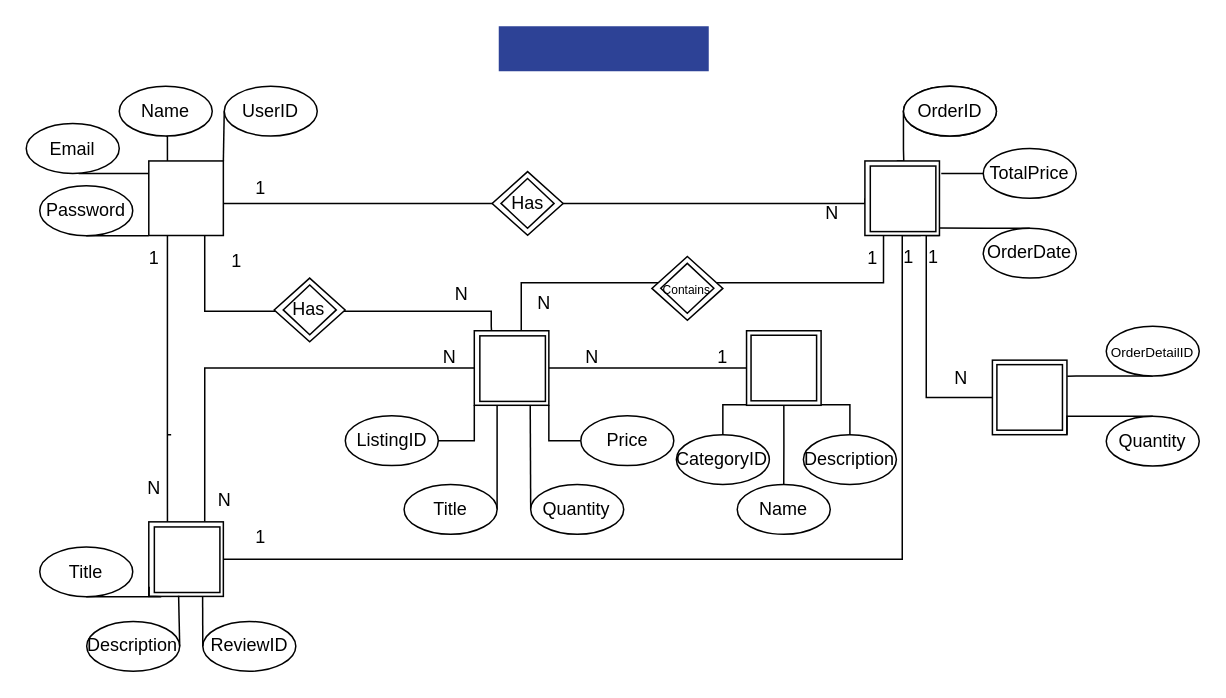
The diagram is 1226 pixels wide and 698 high, and some of its shapes have lost their labels. Here are the shapes that lost their labels. From the top down, the box of each, then its label:
(498, 26, 708, 70): Conceptual model
(147, 159, 223, 236): User
(863, 159, 939, 236): Order
(473, 329, 549, 405): Listing
(745, 329, 821, 405): Category
(991, 359, 1067, 435): OrderDetail
(147, 520, 223, 596): Review
